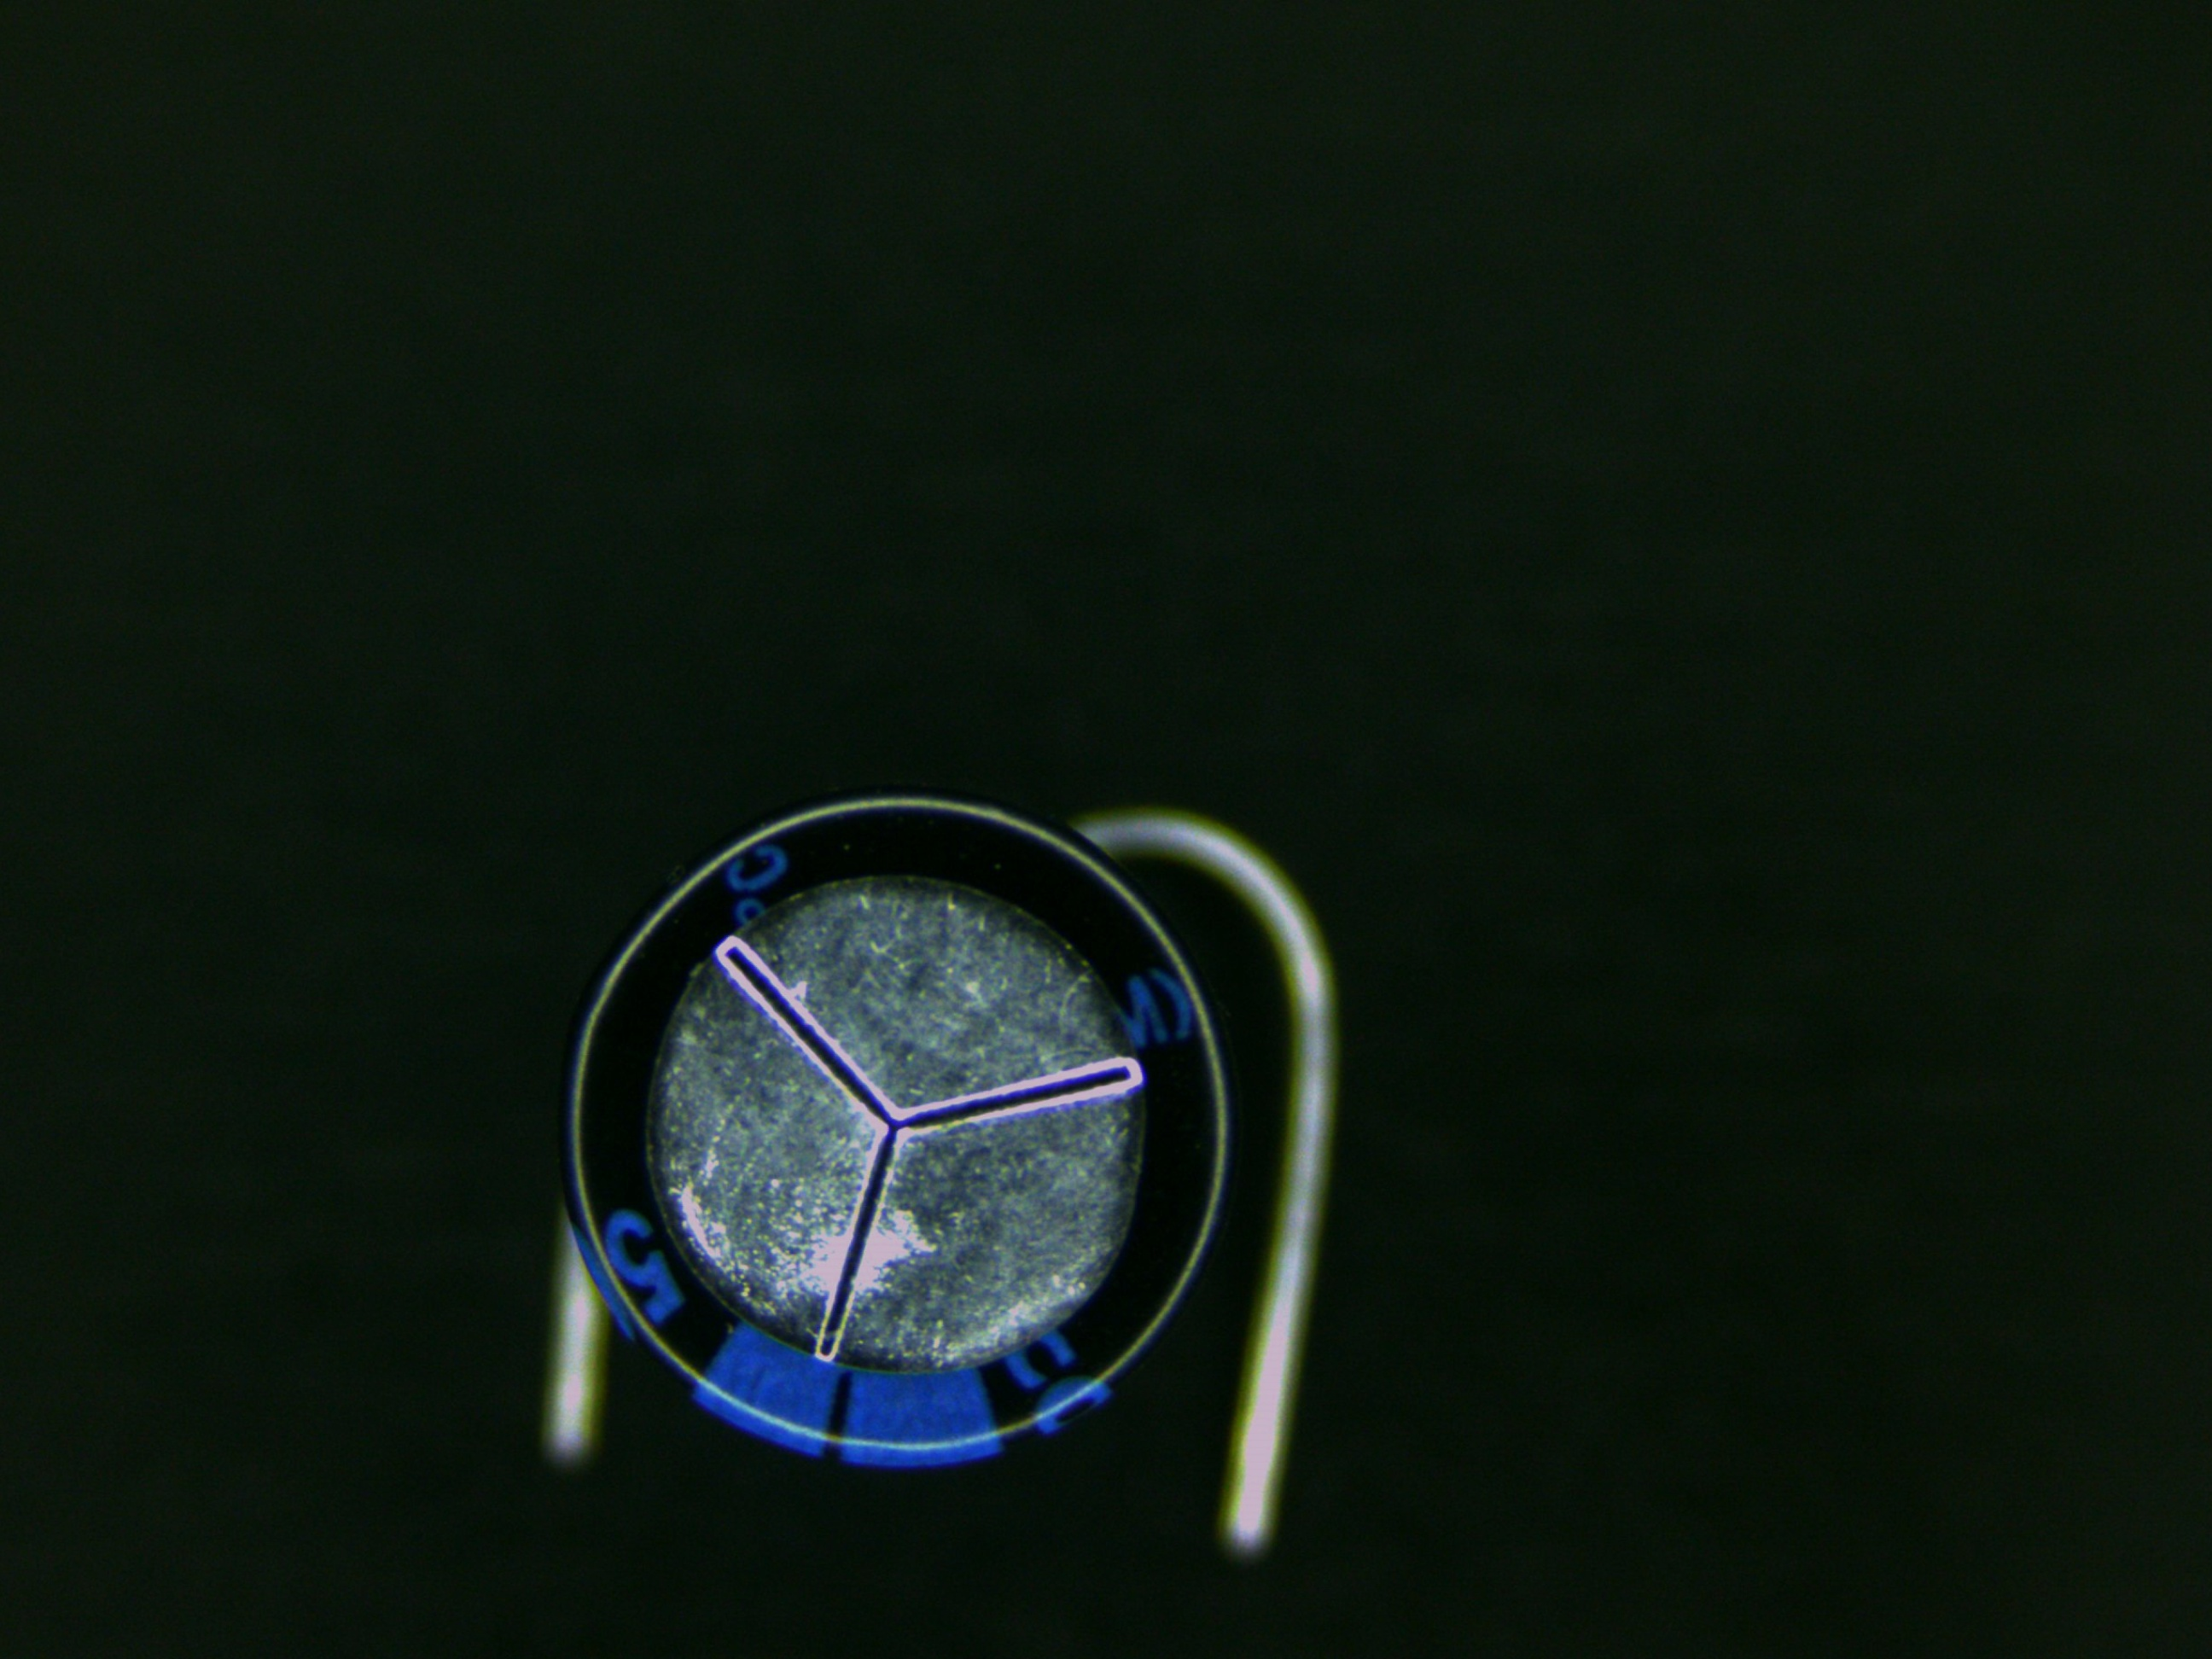c2: (559, 791, 1217, 1473)
